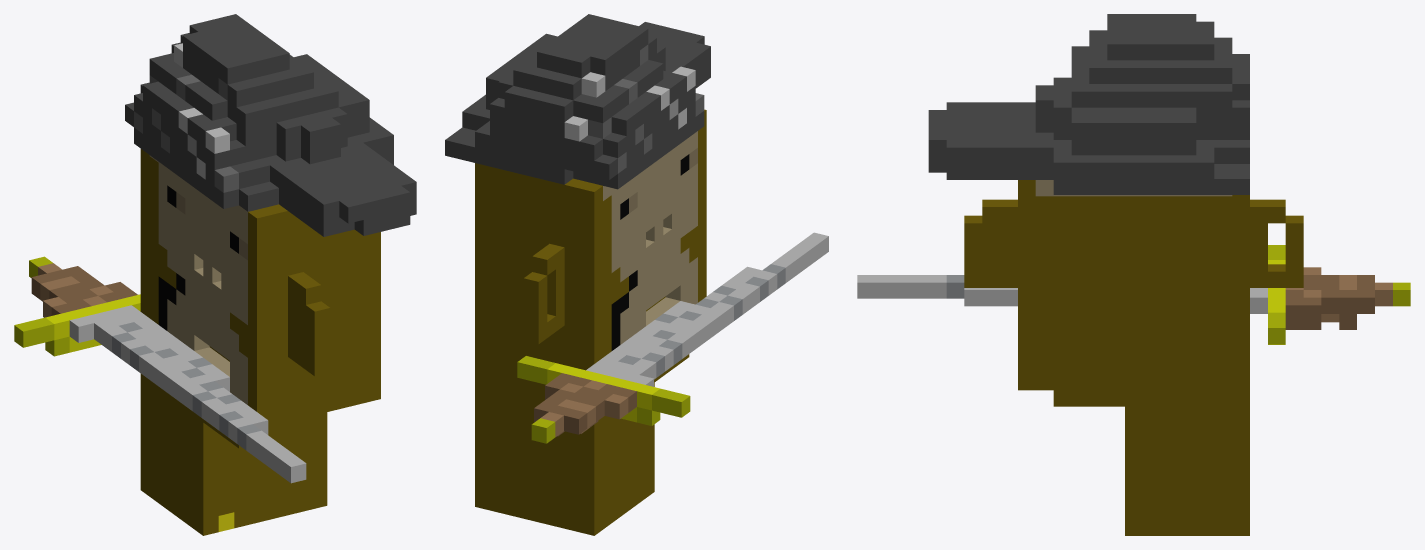
Rendered from brown-ape-122.2cb74078.glb.
The picture shows the model from 3 angles, left to right: view 1: azimuth 30°, elevation 25°; view 2: azimuth 150°, elevation 25°; view 3: azimuth 270°, elevation 25°; orthographic projection. The views are drawn at different scales.
Size of the model in its own units: 0.5484 by 0.9355 by 1.
